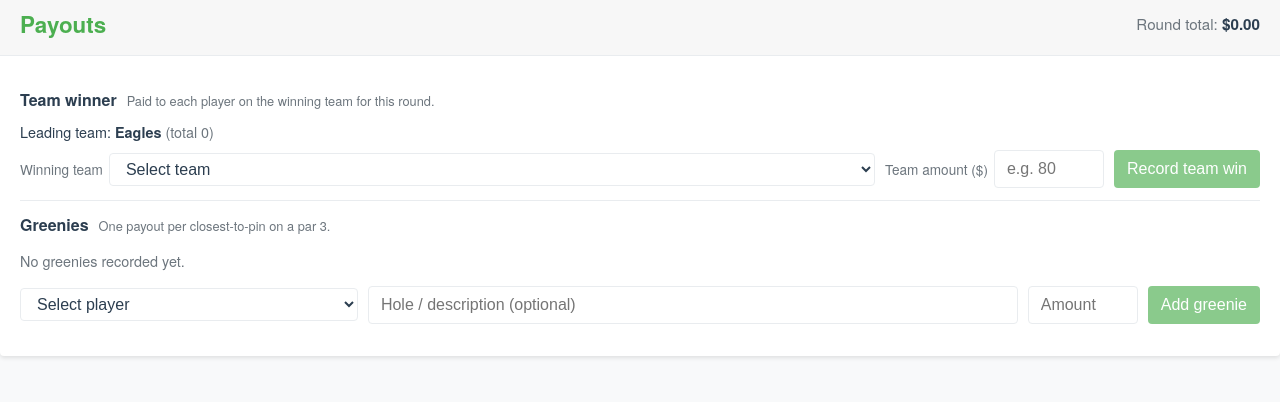
RoundPayouts - button enable/disable › "Record team win" is enabled when team + amount + players present
Select "Eagles — 0" in the dropdown labelled "Winning team" at (492, 169), box x1=109 y1=152 x2=875 y2=186
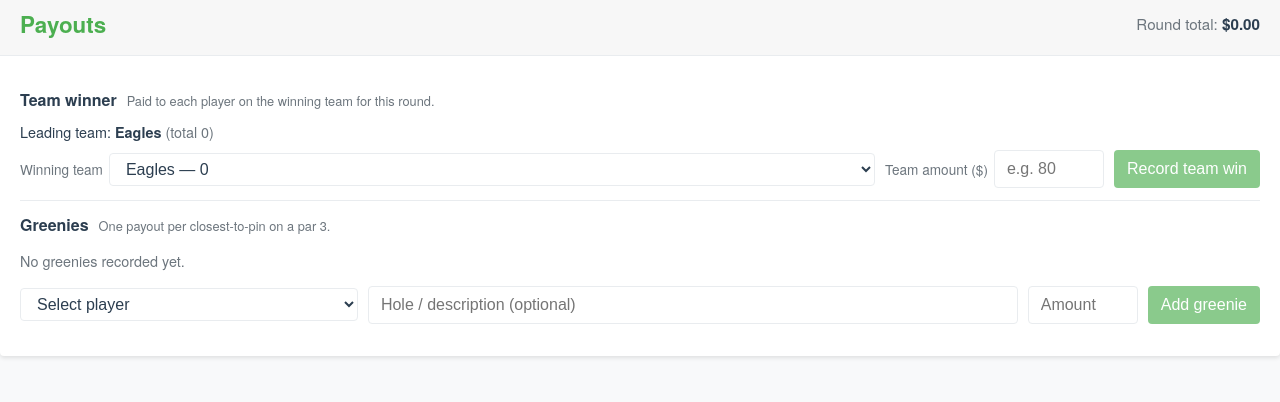
Type "80" into the number field with class "amount-input" showing "Team amount ($)" at (1049, 169), box x1=994 y1=150 x2=1104 y2=188
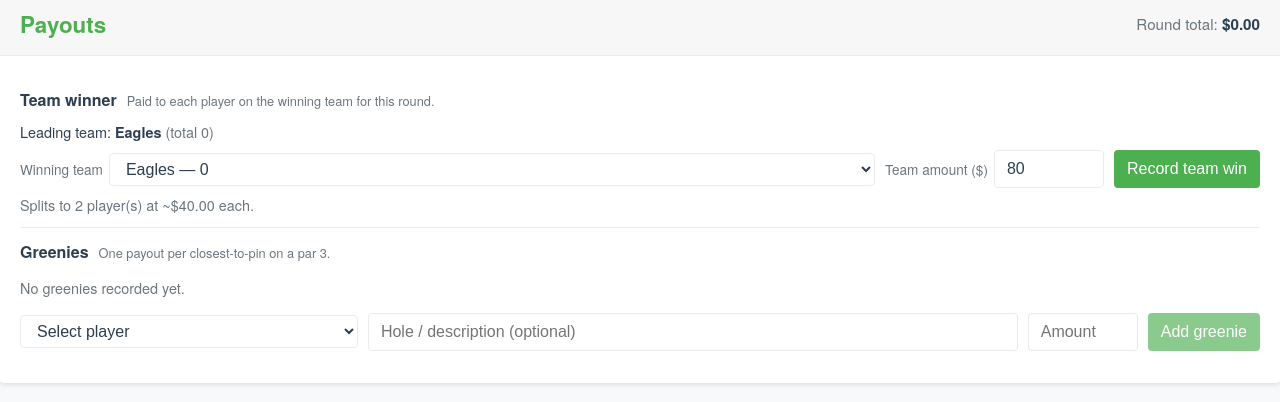
Expected: the button "Record team win" is enabled, x1=1114 y1=150 x2=1260 y2=188
